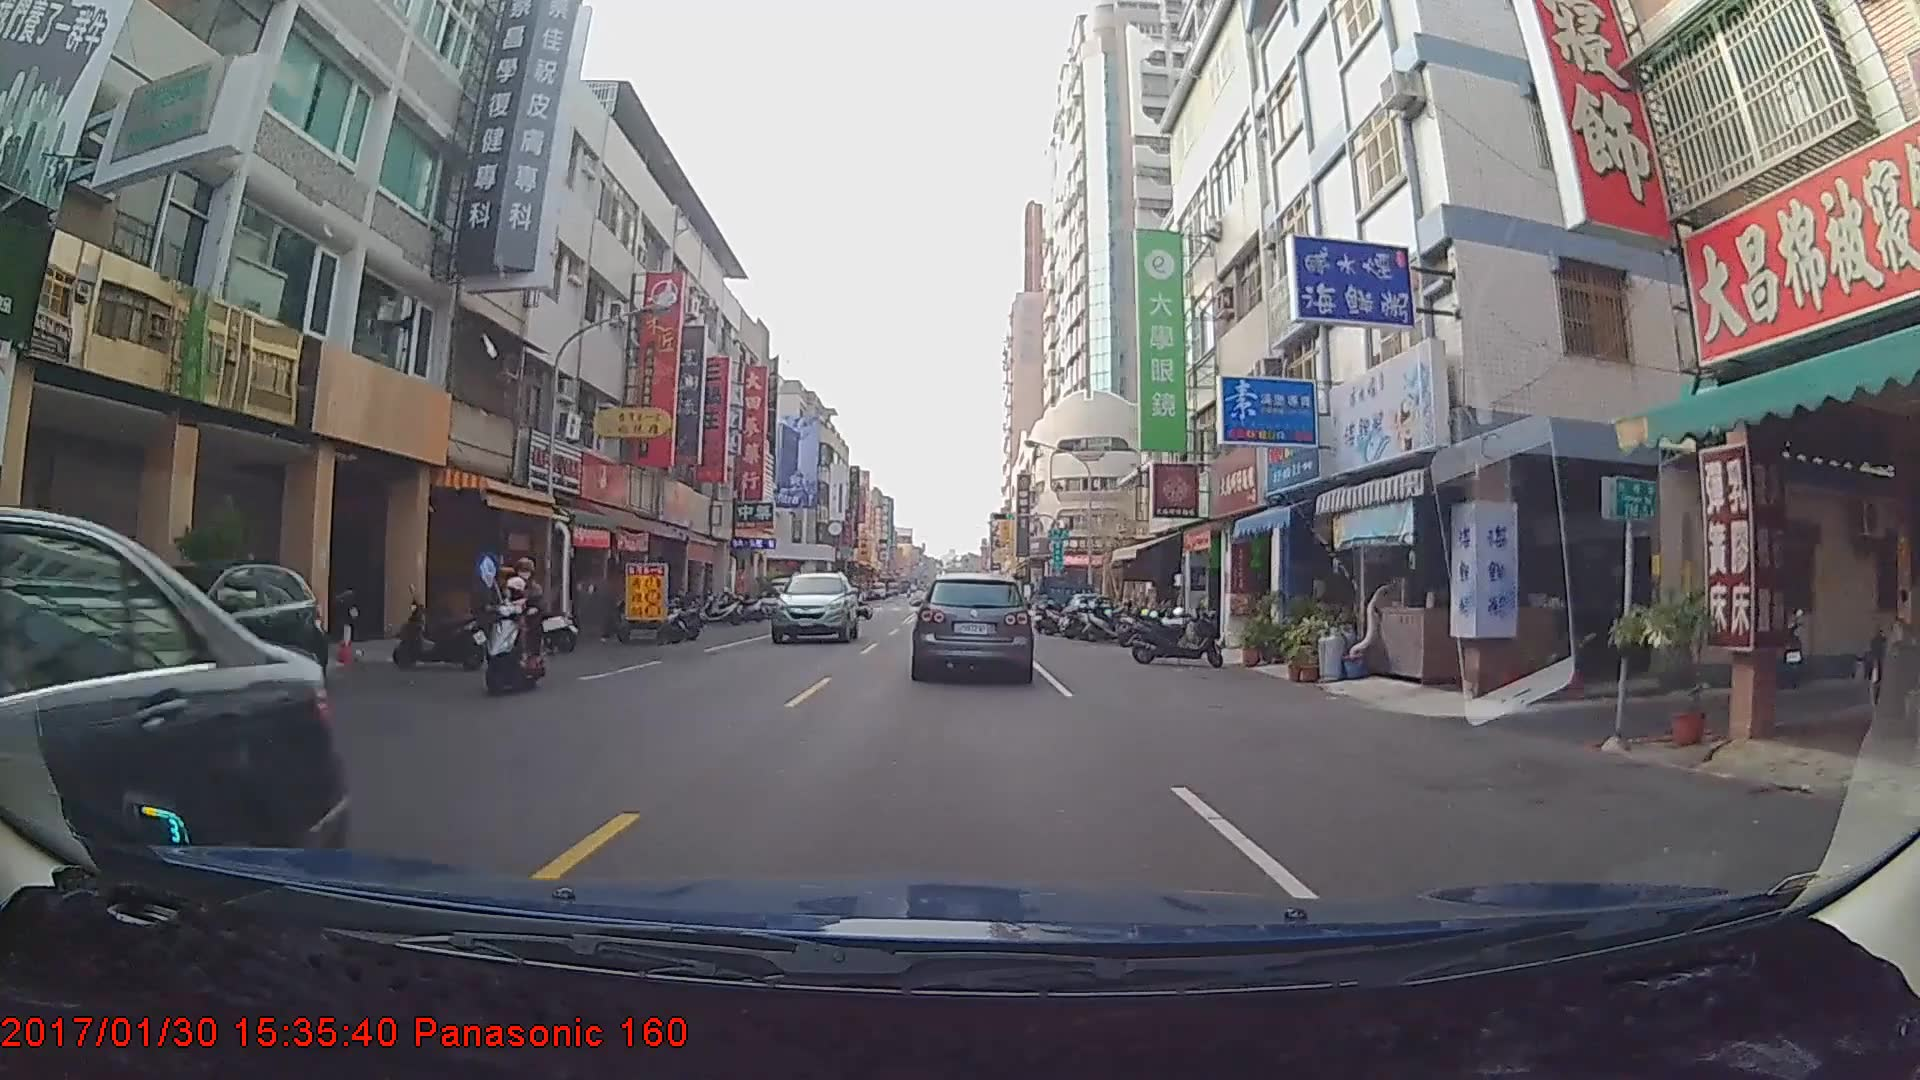rider: (495, 546, 569, 693)
vehicle: (0, 510, 349, 919), (914, 572, 1031, 680), (768, 571, 862, 645), (1030, 574, 1092, 628)
